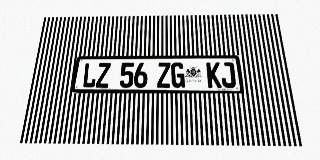5: (120, 63, 134, 88)
6: (134, 62, 148, 88)
G: (171, 62, 185, 88)
J: (220, 62, 236, 88)
K: (206, 62, 222, 88)
L: (82, 63, 97, 88)
Z: (95, 63, 111, 88), (157, 62, 171, 88)
